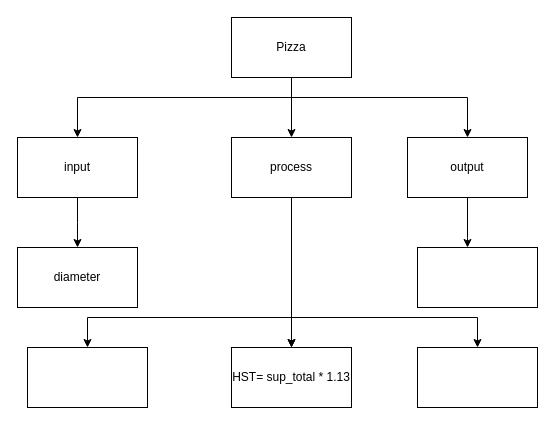
Image size: 555x425. Some labels were removed from this diagram. The shapes that lost their labels are listed below. From the top down, each one's box as (x1, y1, x2, y2) in pixels, then its label:
(416, 246, 538, 308): show total
(26, 346, 148, 408): sup_total=0.75+1.00+(0.5 * diameter)
(416, 346, 538, 408): total=sup_total + HST
